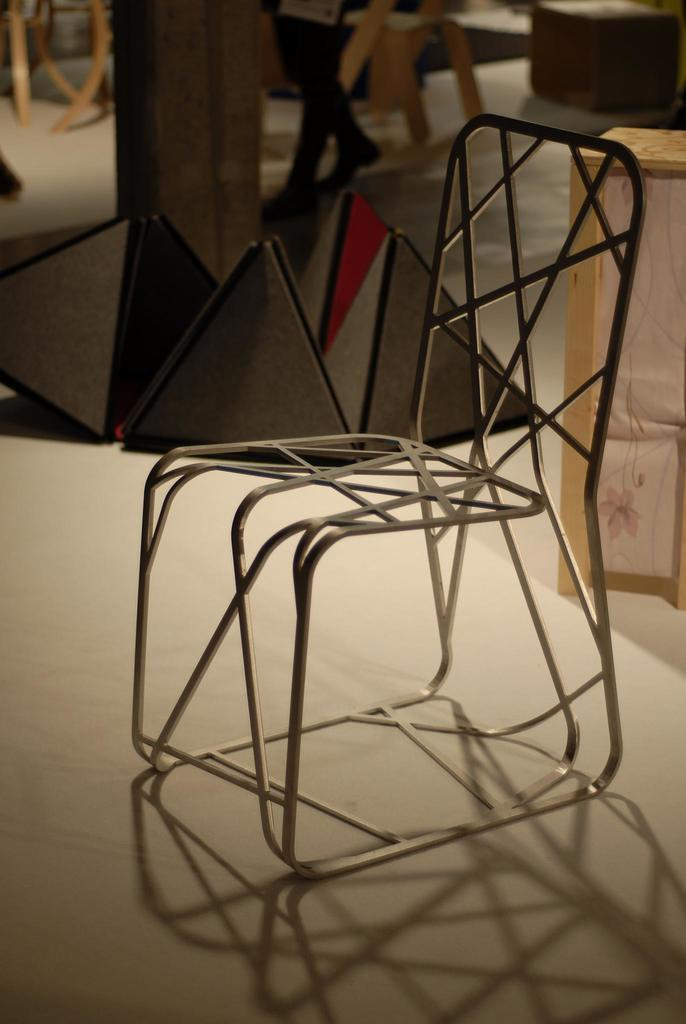Chair: (120, 59, 660, 966)
